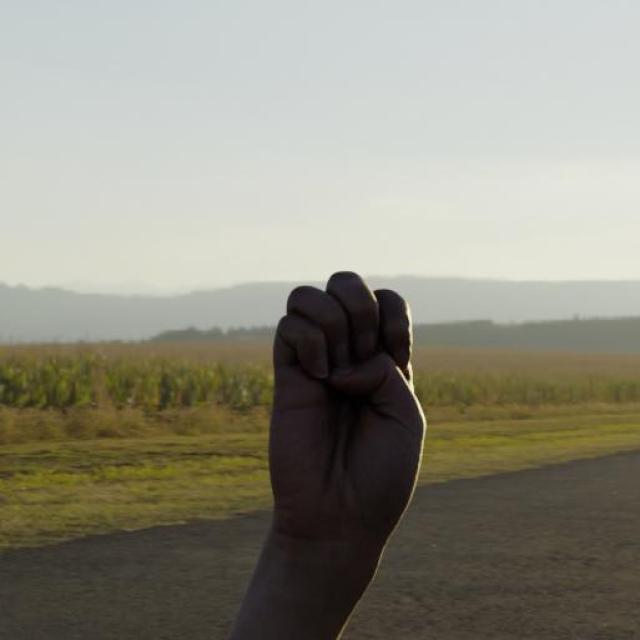E: (266, 263, 433, 532)
